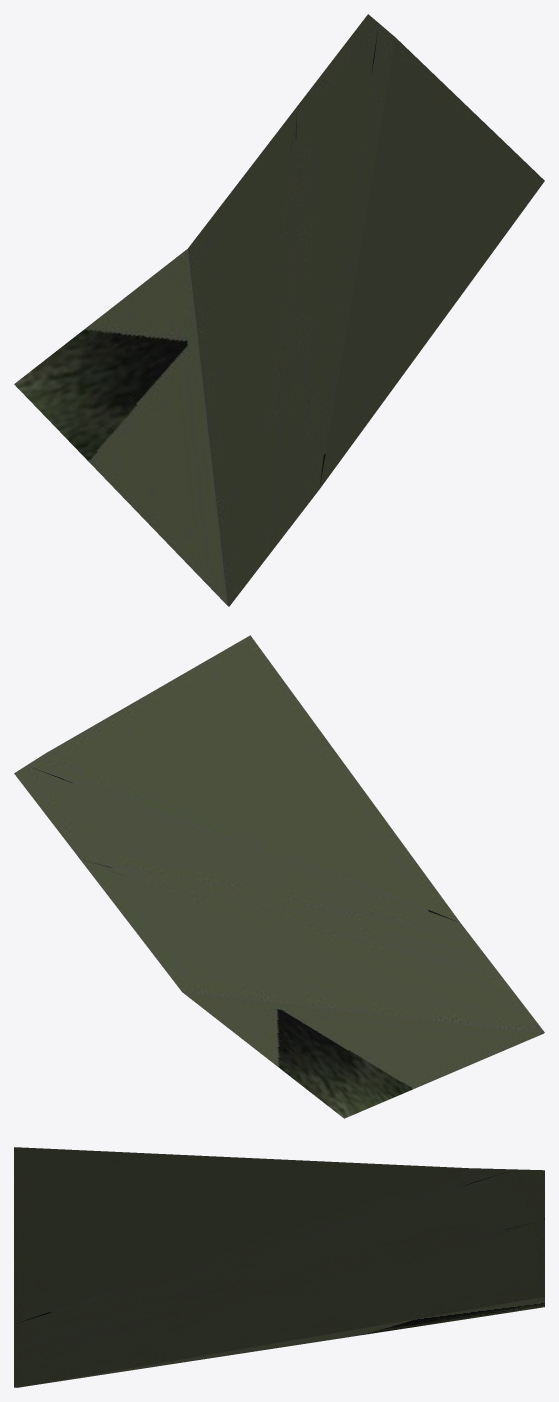
The picture shows the model from 3 angles, top to bottom: view 1: azimuth 30°, elevation 25°; view 2: azimuth 150°, elevation 25°; view 3: azimuth 270°, elevation 25°; orthographic projection. The views are drawn at different scales.
Bounding box in the file's own units: 2.8 × 2.64 × 2.95.
2 materials, 2 textured.
